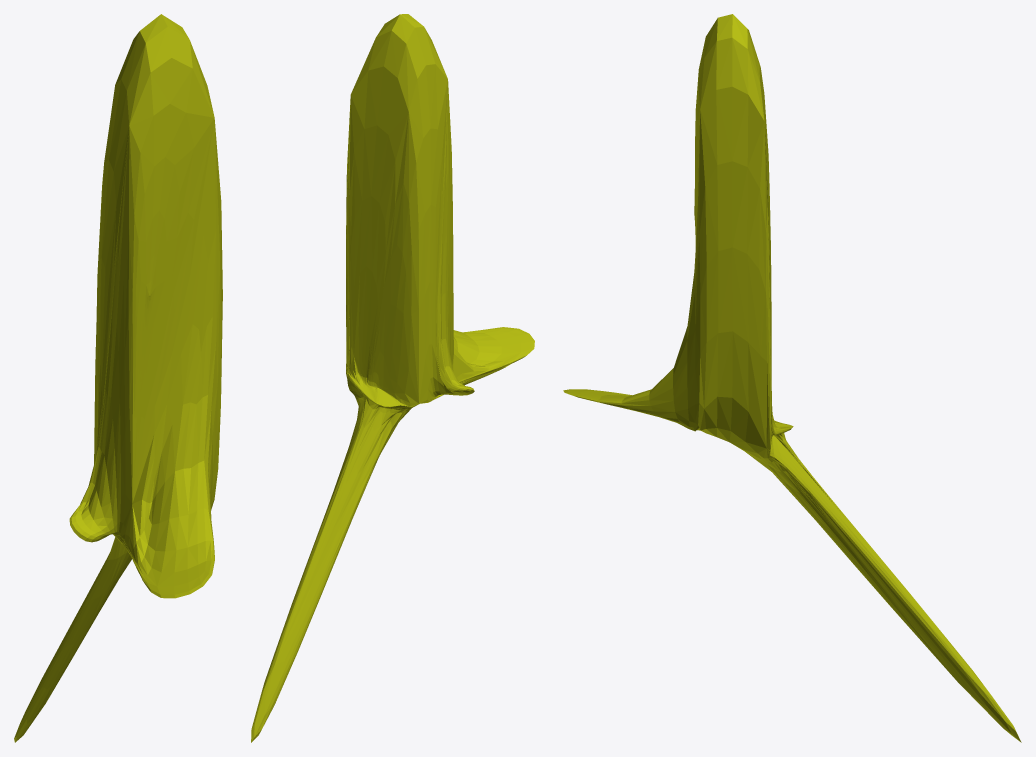
3 views of the same model, side by side, from view 1: azimuth 30°, elevation 25°; view 2: azimuth 150°, elevation 25°; view 3: azimuth 270°, elevation 25° (orthographic). The views are drawn at different scales.
Parts seen in each view (by area): view 1: 934_Cube.3774; view 2: 934_Cube.3774; view 3: 934_Cube.3774.
Boxes of the visible parts, x1=… form: 934_Cube.3774: x1=14, y1=14, x2=222, y2=742; 934_Cube.3774: x1=251, y1=14, x2=534, y2=742; 934_Cube.3774: x1=563, y1=14, x2=1021, y2=742.
Bounding box in the file's own units: 3.39 × 19.09 × 11.05.
